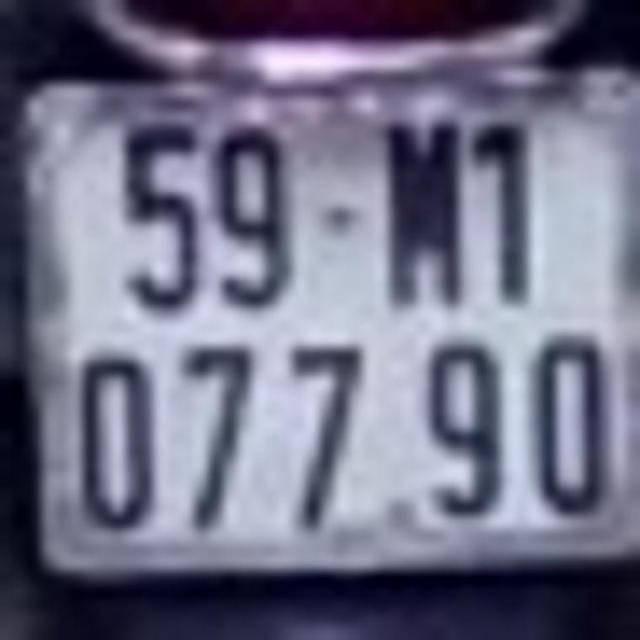0: (69, 345, 158, 529), (534, 324, 605, 516)
1: (477, 120, 532, 307)
5: (113, 119, 202, 308)
7: (280, 328, 362, 531), (180, 338, 256, 533)
9: (208, 122, 291, 304), (425, 330, 503, 520)
M: (380, 113, 471, 313)
